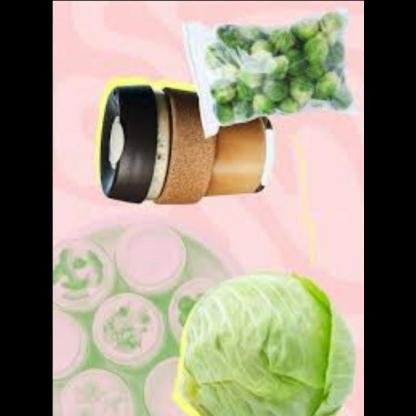brus capusta: (211, 16, 356, 114)
cabbage: (168, 278, 363, 414)
